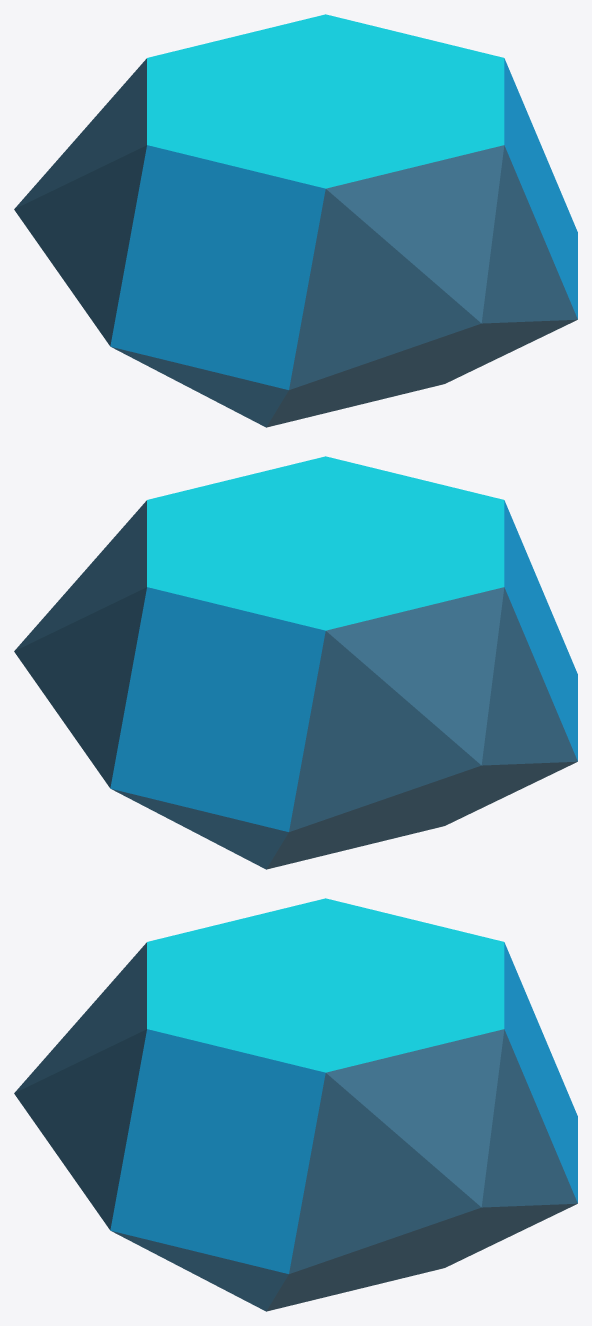
The model's file is J92.HebesfenorrotondaTriangular.gltf.
The picture shows the model from 3 angles, top to bottom: view 1: azimuth 30°, elevation 25°; view 2: azimuth 150°, elevation 25°; view 3: azimuth 270°, elevation 25°; orthographic projection.
Parts seen in each view (by area): view 1: J92.HebesfenorrotondaTriangular; view 2: J92.HebesfenorrotondaTriangular; view 3: J92.HebesfenorrotondaTriangular.
Part boxes in pixels (x1,y1,x2,y2): J92.HebesfenorrotondaTriangular: [14, 14, 577, 427]; J92.HebesfenorrotondaTriangular: [14, 456, 577, 869]; J92.HebesfenorrotondaTriangular: [14, 898, 577, 1311].
Bounding box in the file's own units: 17.3 × 9.99 × 18.06.
